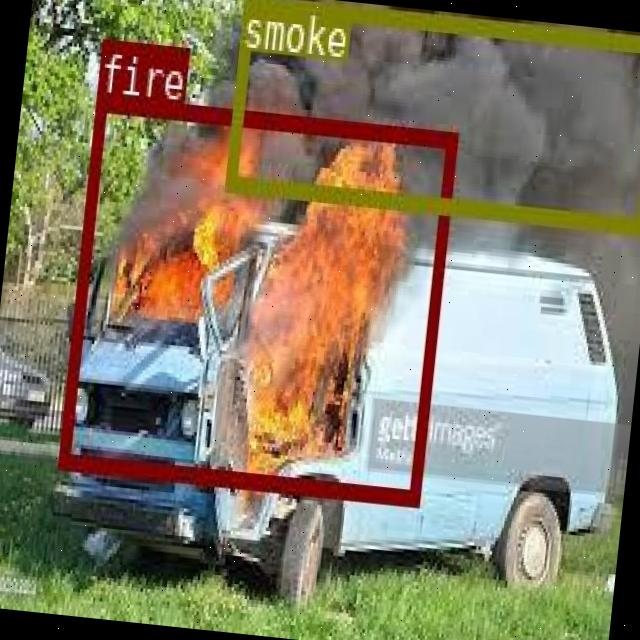fire: (58, 93, 454, 504)
smoke: (222, 0, 640, 231)
